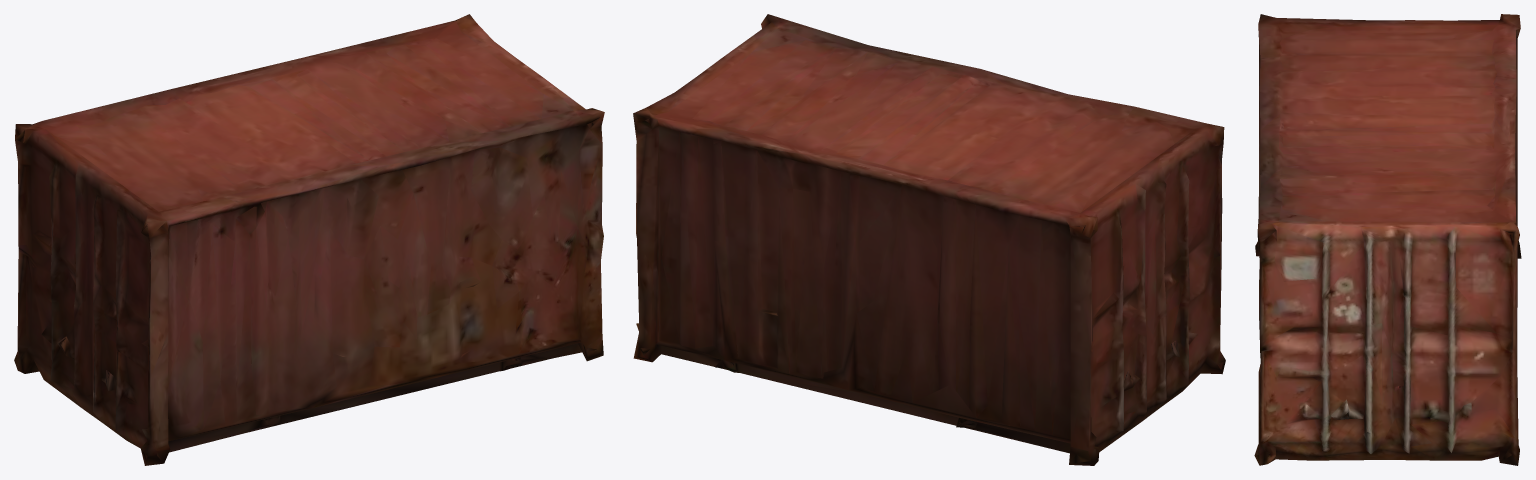
The model's file is e_container.glb.
3 views of the same model, side by side, from view 1: azimuth 30°, elevation 25°; view 2: azimuth 150°, elevation 25°; view 3: azimuth 270°, elevation 25° (orthographic). The views are drawn at different scales.
Visible parts, largest first — view 1: tripo_node_93b961b5-9134-4c8b-bfc3-5ad9d80fce95; view 2: tripo_node_93b961b5-9134-4c8b-bfc3-5ad9d80fce95; view 3: tripo_node_93b961b5-9134-4c8b-bfc3-5ad9d80fce95.
Boxes of the visible parts, box(x1,y1,x2,y2) form: tripo_node_93b961b5-9134-4c8b-bfc3-5ad9d80fce95: box(14, 14, 604, 465); tripo_node_93b961b5-9134-4c8b-bfc3-5ad9d80fce95: box(633, 14, 1225, 465); tripo_node_93b961b5-9134-4c8b-bfc3-5ad9d80fce95: box(1254, 14, 1521, 465).
Bounding box in the file's own units: 1 × 0.5144 × 0.521.
Materials: 1 (1 with a texture image).
